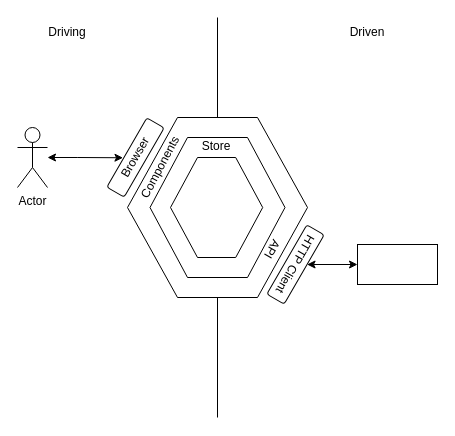
The diagram is 455 pixels wide and 436 high, and some of its shapes have lost their labels. Each missing label, with the centre of its shape:
"Backend" goes at (x=397, y=264).
"Domain" goes at (x=216, y=207).
